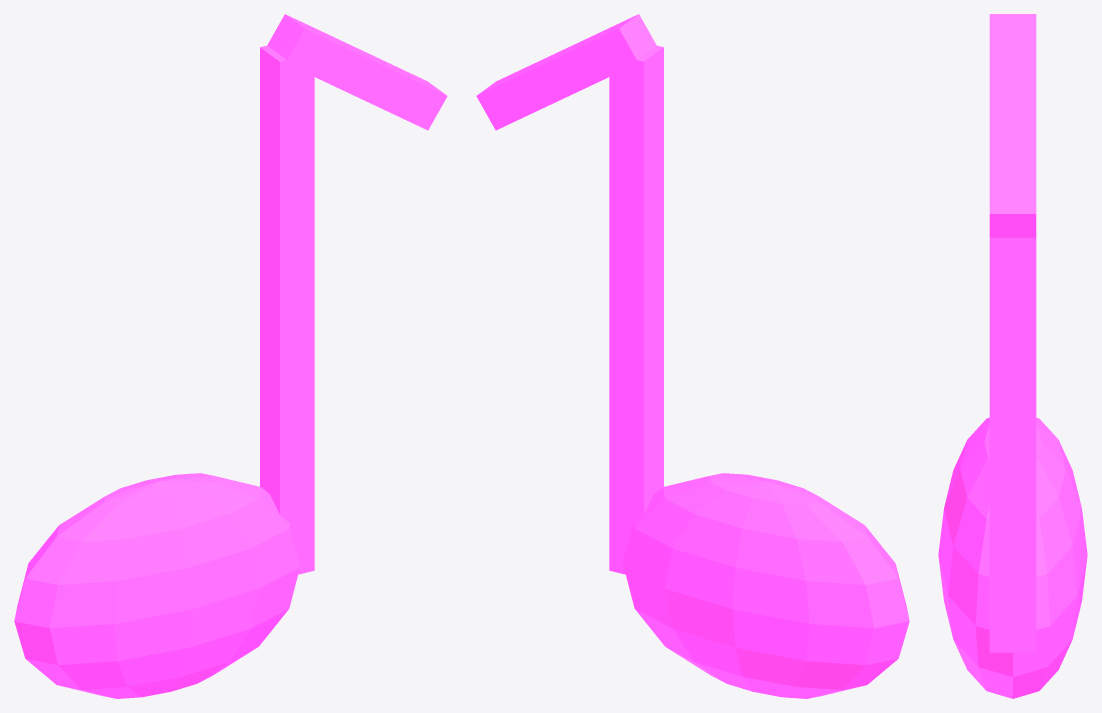
The model's file is neon_note.glb.
The picture shows the model from 3 angles, left to right: view 1: azimuth 30°, elevation 25°; view 2: azimuth 150°, elevation 25°; view 3: azimuth 270°, elevation 25°; orthographic projection. The views are drawn at different scales.
Parts seen in each view (by area): view 1: head_note_neon, stem_note_neon, flag_note_neon; view 2: head_note_neon, stem_note_neon, flag_note_neon; view 3: head_note_neon, stem_note_neon, flag_note_neon.
Boxes of the visible parts, x1,y1,x2,y2 form: head_note_neon: (14,473,301,698); stem_note_neon: (260,45,314,574); flag_note_neon: (267,14,447,130); head_note_neon: (622,473,909,698); stem_note_neon: (609,45,663,574); flag_note_neon: (476,14,656,130); head_note_neon: (938,417,1087,698); stem_note_neon: (989,237,1036,652); flag_note_neon: (989,14,1036,237).
Bounding box in the file's own units: 1.71 × 2.46 × 0.45.
